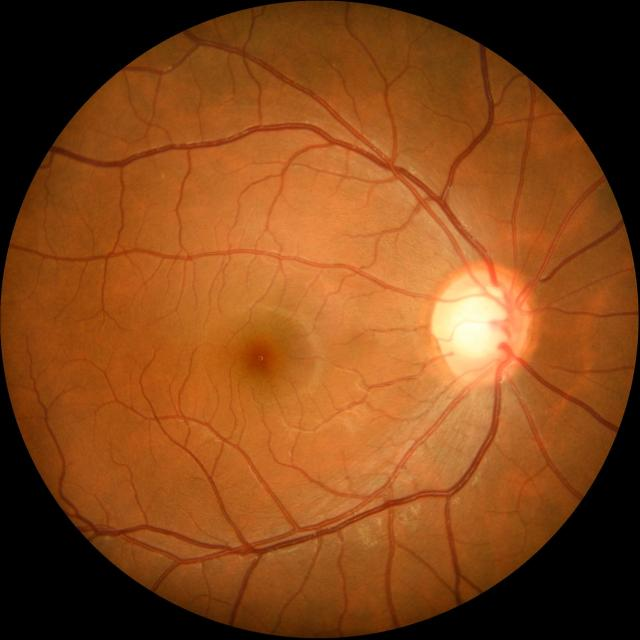OC: (446, 284, 513, 364)
OD: (433, 264, 531, 384)
